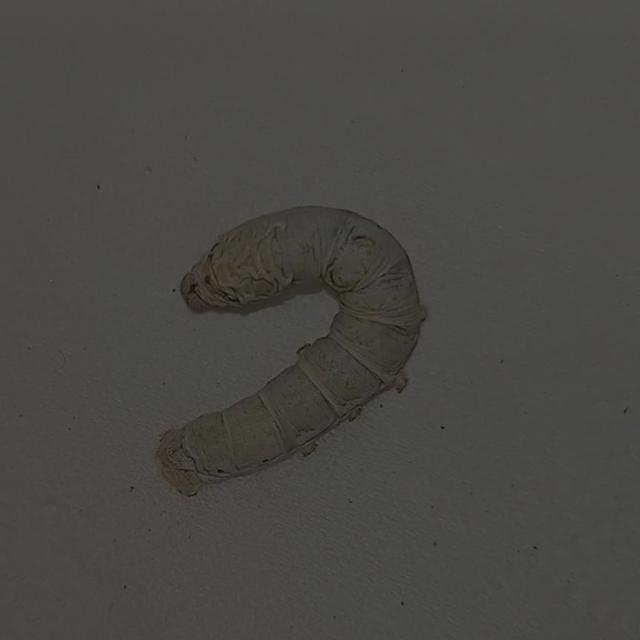Healthy: (127, 182, 436, 510)
